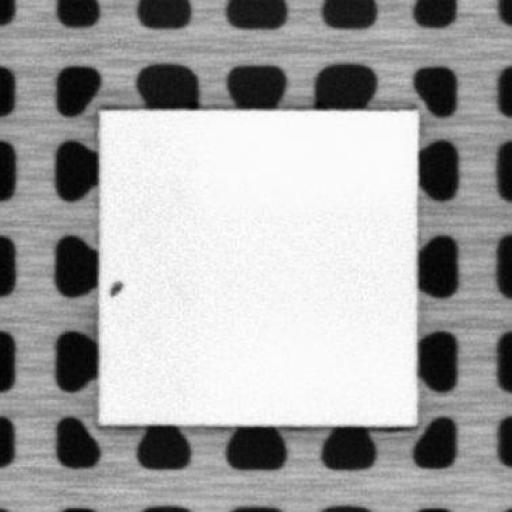DIE_INK: (106, 277, 123, 296)
